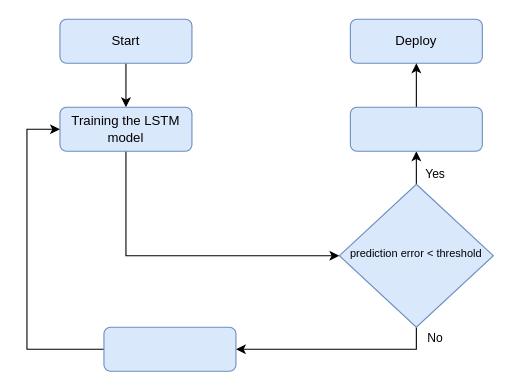
The diagram is 513 pixels wide and 391 high, and some of its shapes have lost their labels. The shapes that lost their labels are listed below. From the top down, each one's box as (x1, y1, x2, y2) in pixels, then its label:
(349, 106, 482, 151): Utilise trained model
(103, 326, 236, 371): Tune the model hyperparameters
